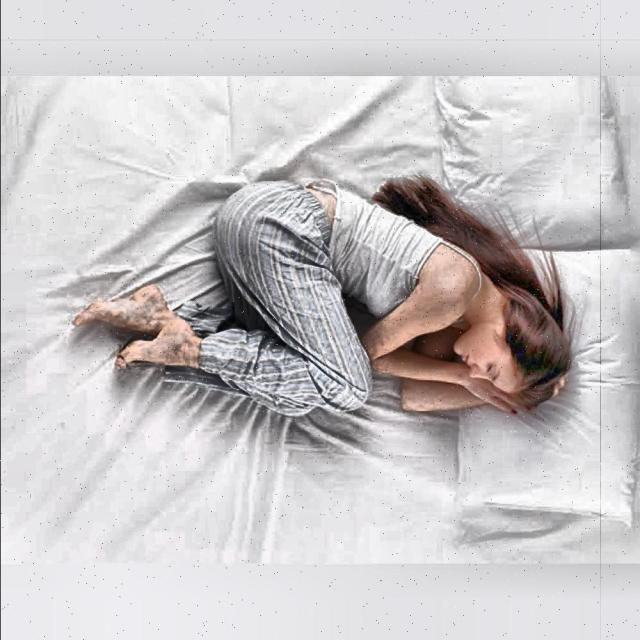Not_Supine: (75, 176, 570, 415)
